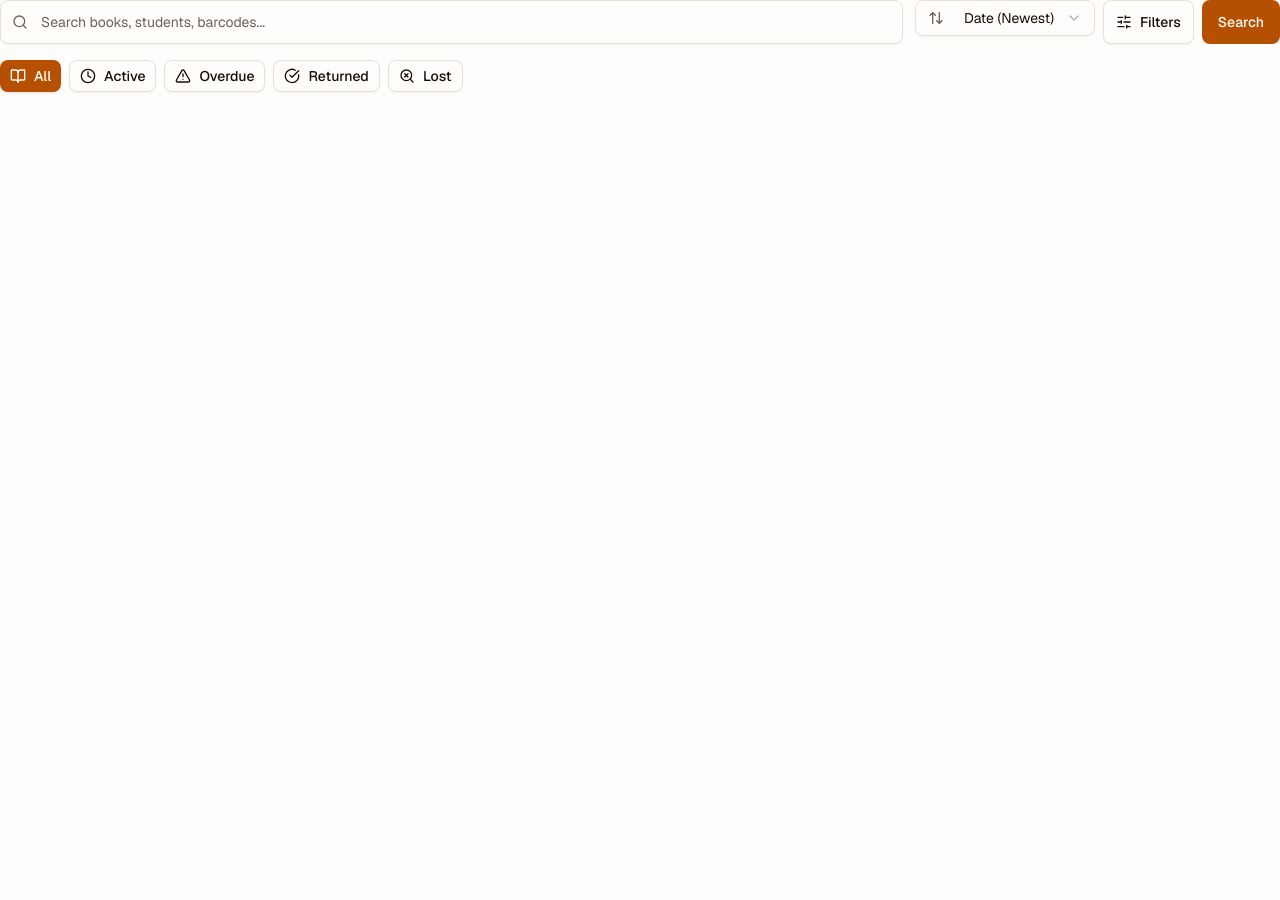
it: TransactionSearch › opens filters sheet when clicking filters button
The image size is (1280, 900).
Click the button "Filters".
click(1148, 22)  # box [1103,0,1194,44]
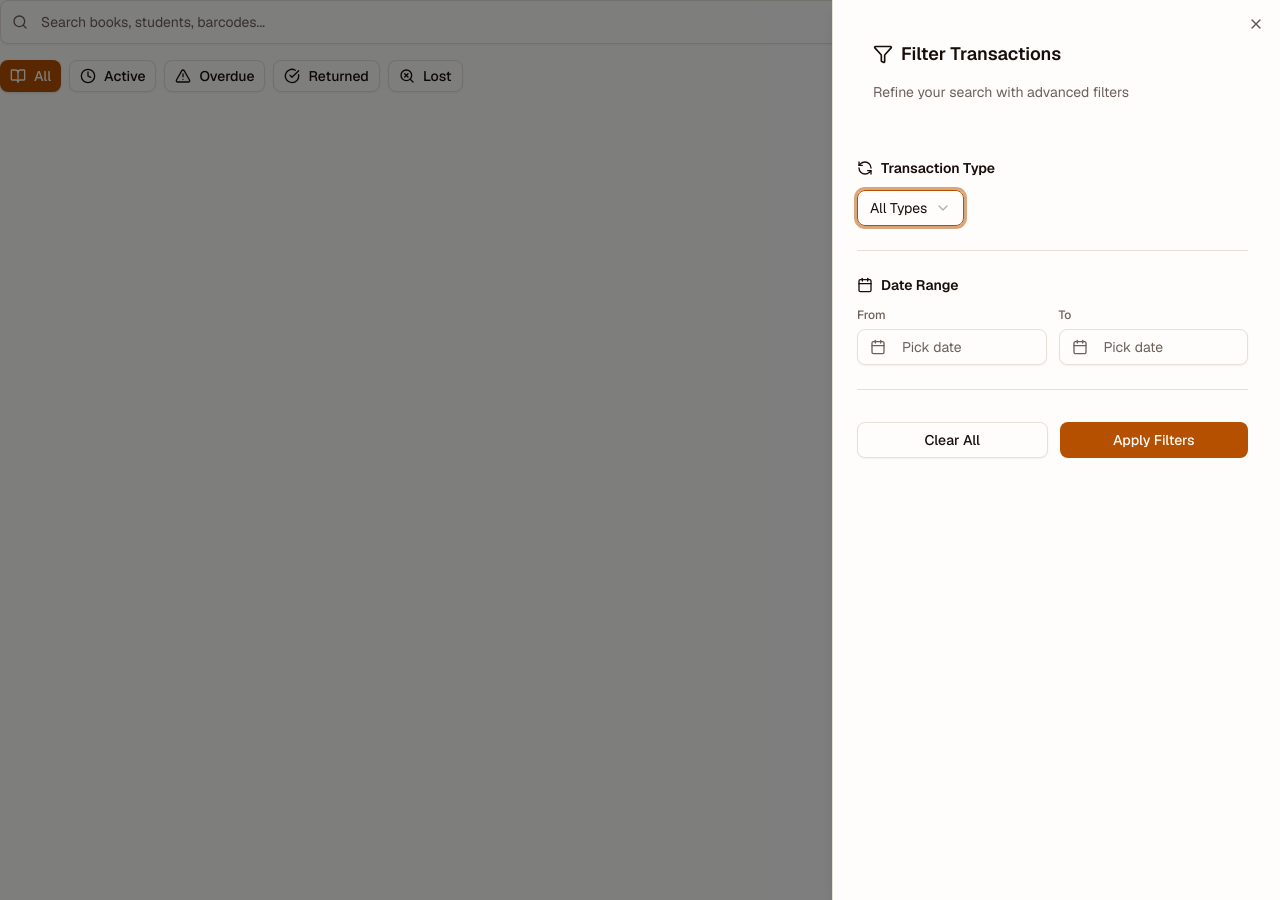
Now the text "Filter Transactions" is shown, box [901,40,1061,68]
